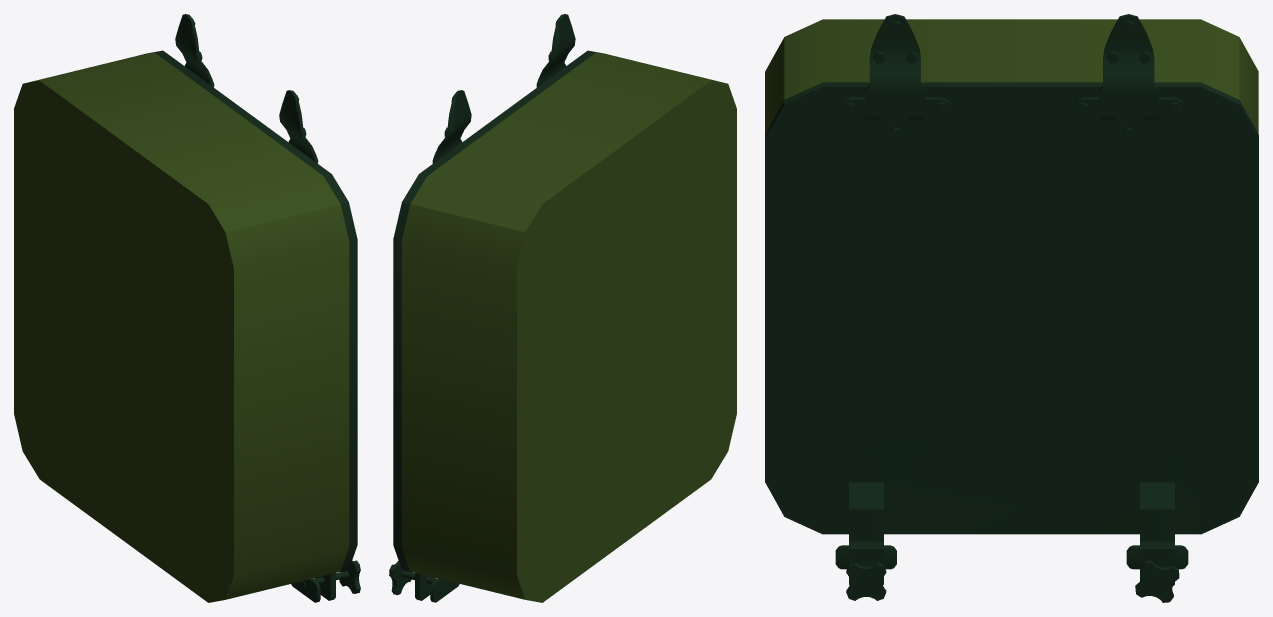
The model's file is shield 1.FBX.
3 renders of one model, left to right at view 1: azimuth 30°, elevation 25°; view 2: azimuth 150°, elevation 25°; view 3: azimuth 270°, elevation 25°, orthographic. The views are drawn at different scales.
Visible parts, largest first — view 1: Box264, Box265; view 2: Box264, Box265; view 3: Box265, Box264.
Part boxes in pixels (<box>): Box264: <box>14,14,349,602</box>; Box265: <box>138,50,360,600</box>; Box264: <box>401,14,736,602</box>; Box265: <box>389,50,610,600</box>; Box265: <box>765,82,1258,602</box>; Box264: <box>765,14,1258,569</box>.
Bounding box in the file's own units: 191 × 561 × 447.
